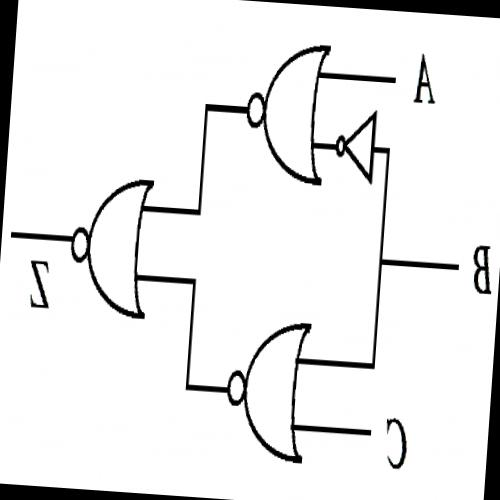nor: (204, 296, 328, 476), (56, 155, 170, 344), (227, 24, 339, 209)
not: (326, 96, 385, 195)
